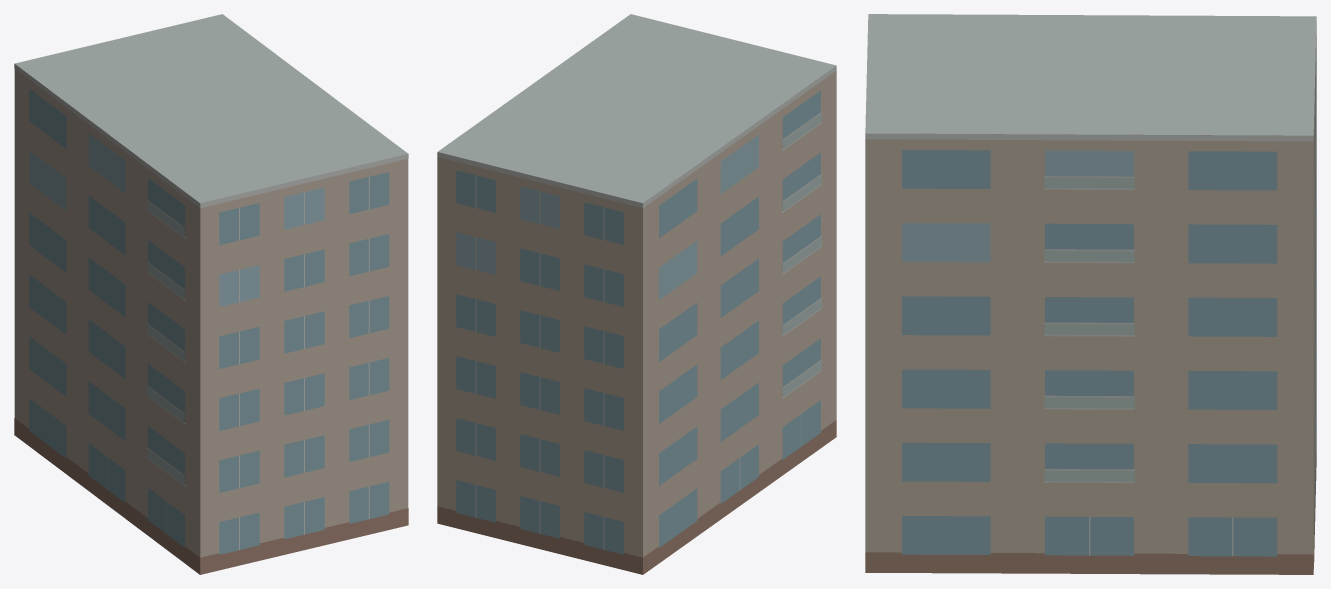
The model's file is survey-upis-33002937.glb.
3 renders of one model, left to right at view 1: azimuth 30°, elevation 25°; view 2: azimuth 150°, elevation 25°; view 3: azimuth 270°, elevation 25°, orthographic. The views are drawn at different scales.
Visible parts, largest first — view 1: survey-upis-33002937.tmp; view 2: survey-upis-33002937.tmp; view 3: survey-upis-33002937.tmp.
Boxes of the visible parts, x1,y1,x2,y2 form: survey-upis-33002937.tmp: (14,14,408,574); survey-upis-33002937.tmp: (437,14,836,574); survey-upis-33002937.tmp: (865,14,1316,574).
Size of the model in its own units: 10.89 by 18.3 by 17.05.
